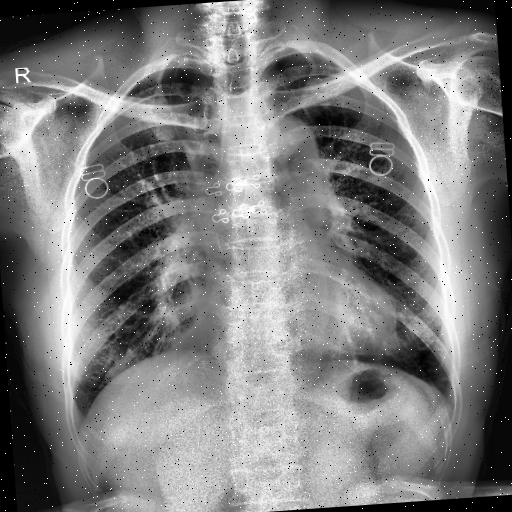0- Aortic enlargement: (249, 113, 324, 204), (256, 112, 324, 188), (255, 116, 322, 182)
3- Cardiomegaly: (170, 302, 402, 382)
